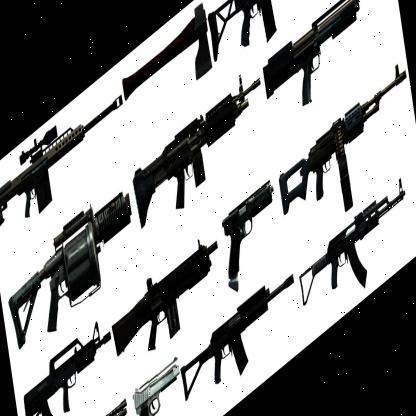rifle: (276, 57, 416, 249), (129, 60, 269, 244), (0, 65, 128, 256), (106, 206, 227, 390), (292, 165, 416, 340), (167, 262, 300, 416), (258, 0, 369, 140), (18, 306, 118, 416), (32, 387, 135, 416)
